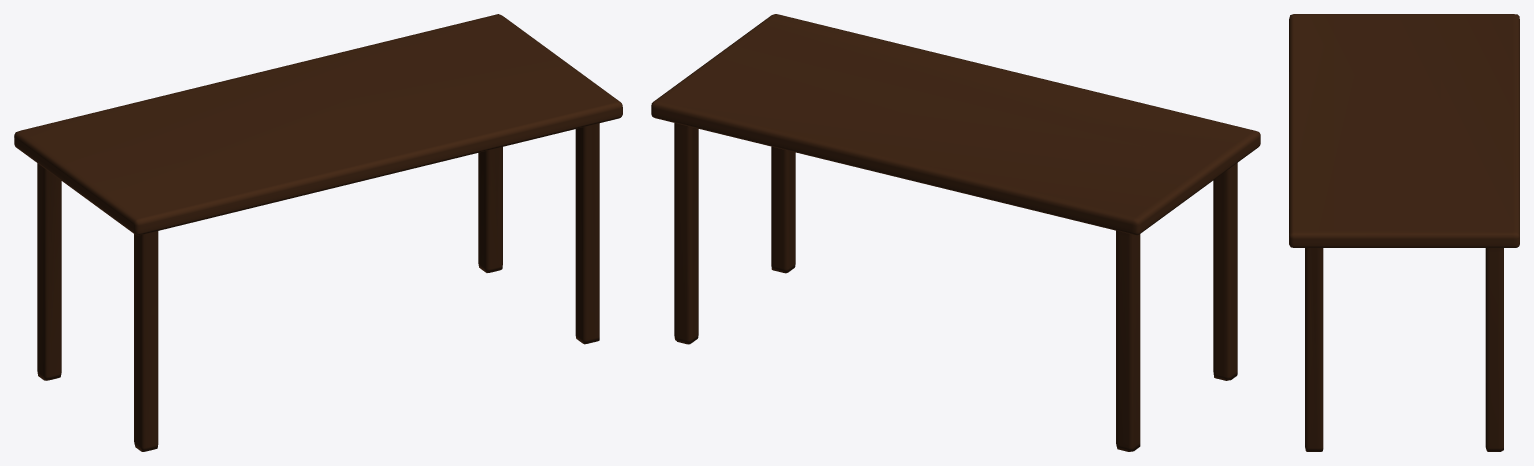
Rendered from lumiere-nesting-table-large.glb.
3 renders of one model, left to right at view 1: azimuth 30°, elevation 25°; view 2: azimuth 150°, elevation 25°; view 3: azimuth 270°, elevation 25°, orthographic. The views are drawn at different scales.
Parts seen in each view (by area): view 1: lumiere-nesting-table-large_LOD0; view 2: lumiere-nesting-table-large_LOD0; view 3: lumiere-nesting-table-large_LOD0.
Part boxes in pixels (x1,y1,x2,y2): lumiere-nesting-table-large_LOD0: (14,14,622,451); lumiere-nesting-table-large_LOD0: (651,14,1260,451); lumiere-nesting-table-large_LOD0: (1289,14,1519,451).
Size of what is drawn, in the model's own units: 1.25 by 0.59 by 0.55.
